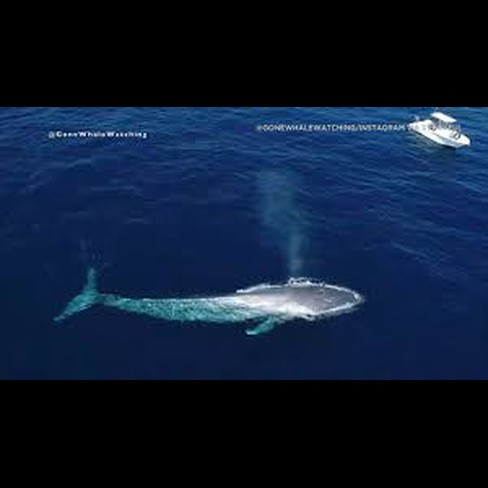bluewhale: (51, 263, 369, 345)
boat: (406, 110, 472, 155)
